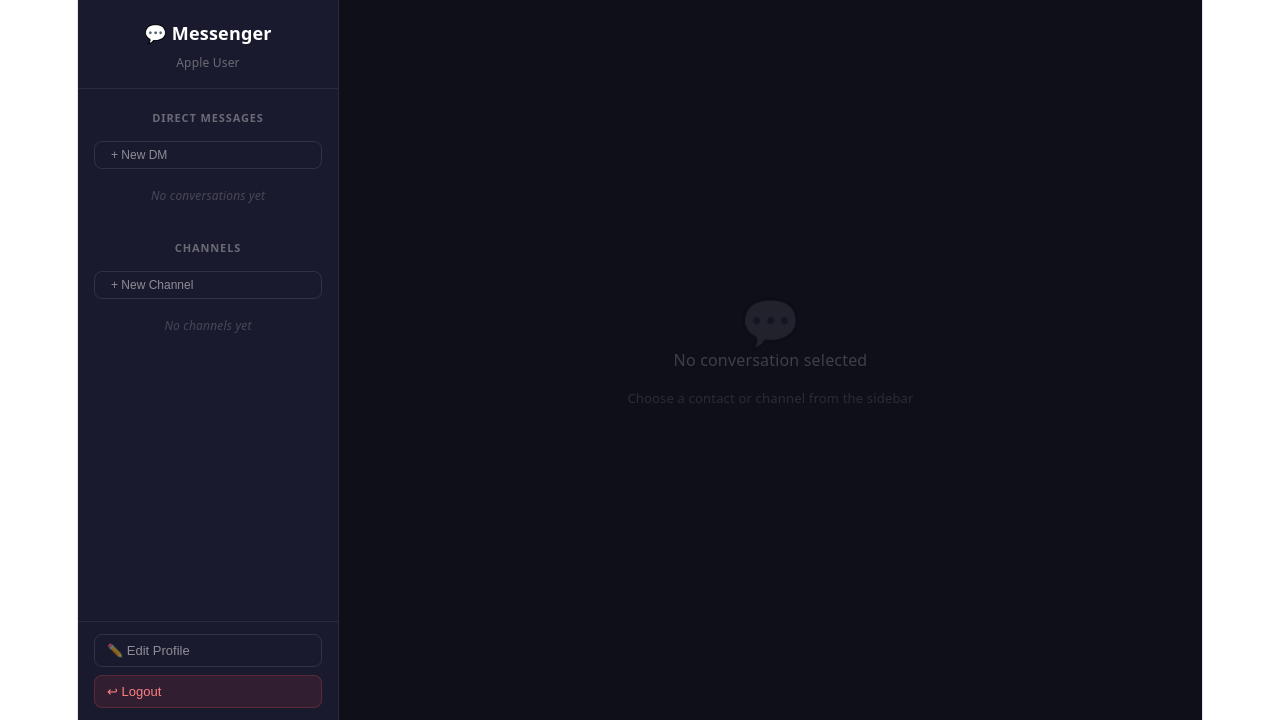
Test: Chat Component › shows DM search input when + New DM is clicked
The width and height of the screenshot is (1280, 720).
Click the button "+ New DM" at (208, 155), box [94,141,322,169]
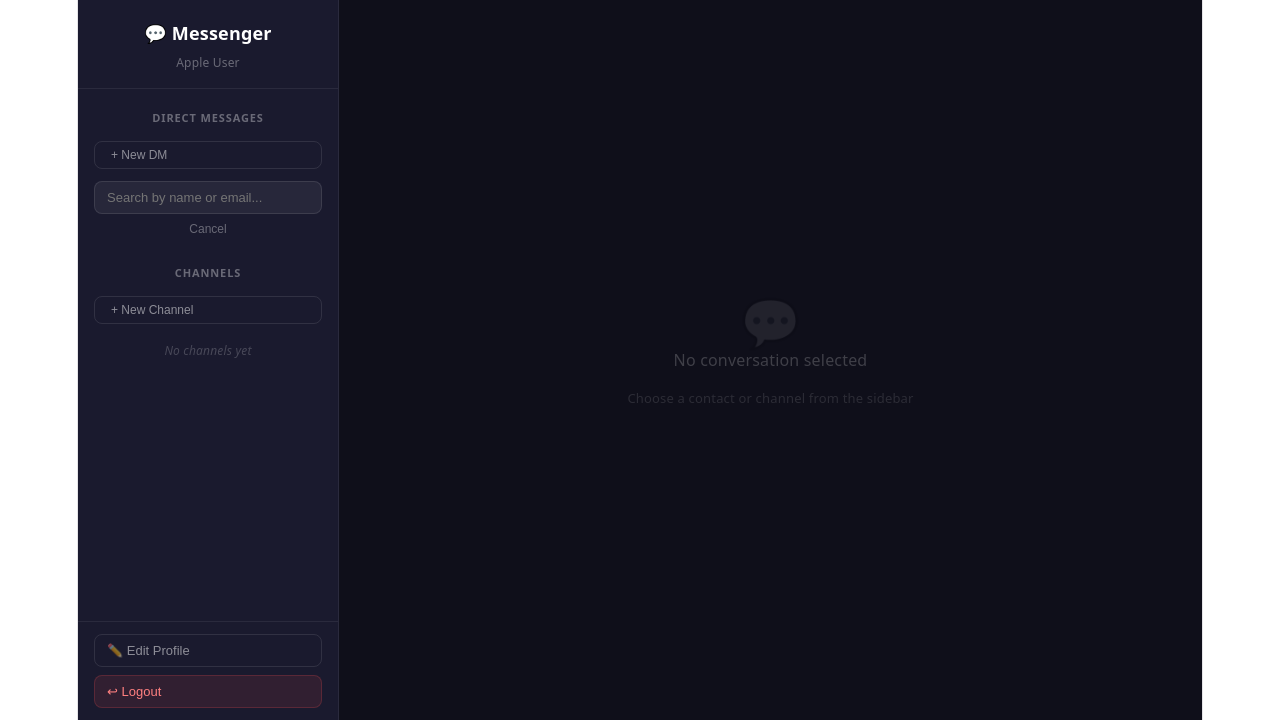
Check: the field with placeholder "Search by name or email..." is shown, box [94,181,322,214]
